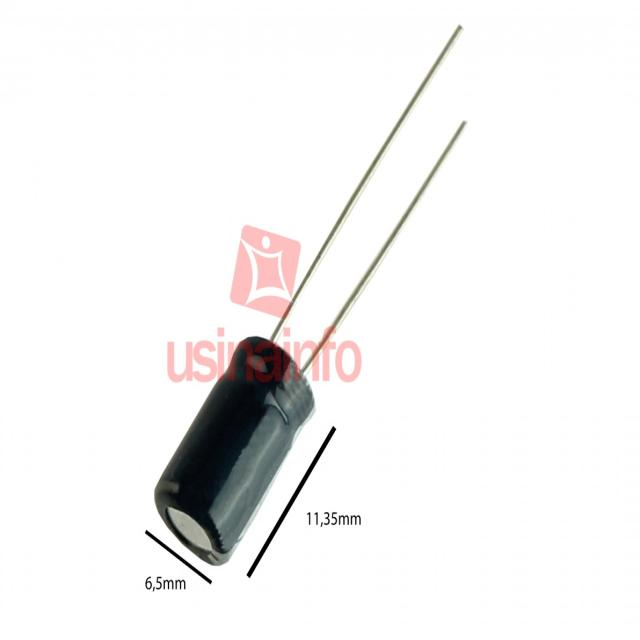Capacitor: (312, 122, 469, 359), (156, 331, 317, 559), (312, 24, 463, 265), (289, 265, 315, 311)
